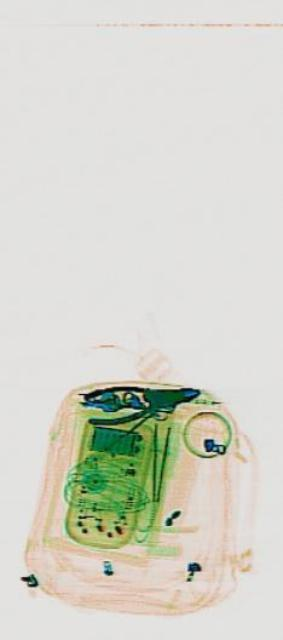Pliers: (81, 370, 198, 428)
